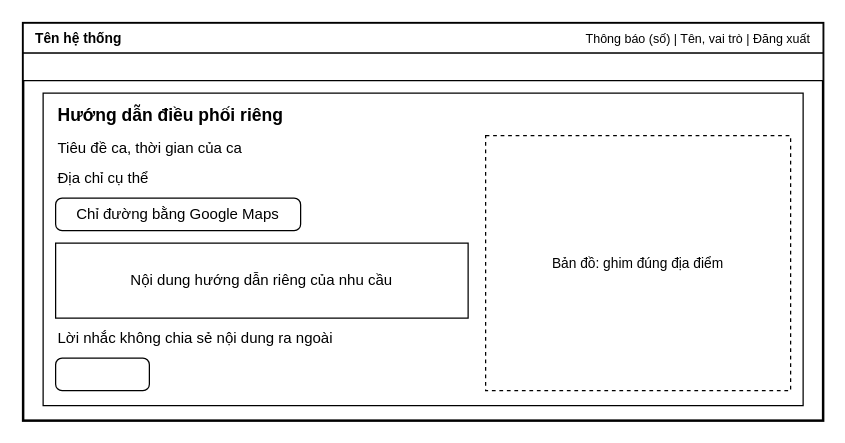
Some shapes in this 845 by 443 pixel diagram are drawn without their labels. The shapes that lost their labels are listed below. From the top down, each one's centre as x and y in pixels, then its label:
At [422,66]: "Trang chủ | Tìm ca làm | Đăng ký của tôi | Lịch sử đóng góp | Hồ sơ và kỹ năng".
At [101,374]: "Quay lại".
